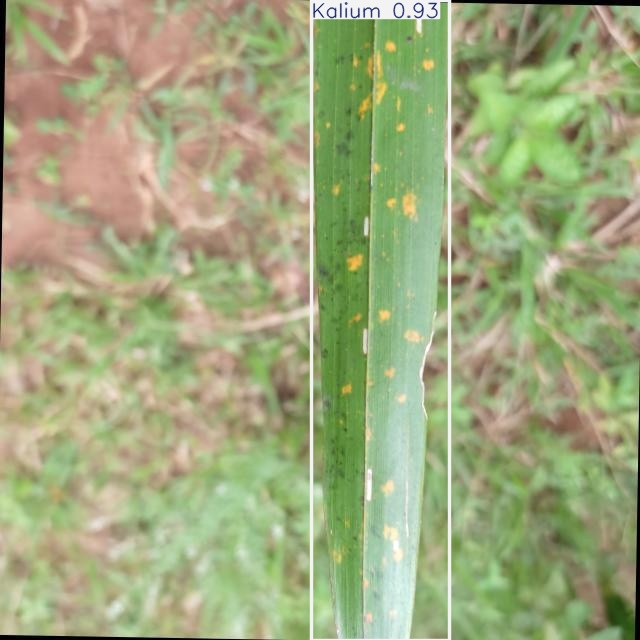Kalium: (311, 0, 450, 640)
